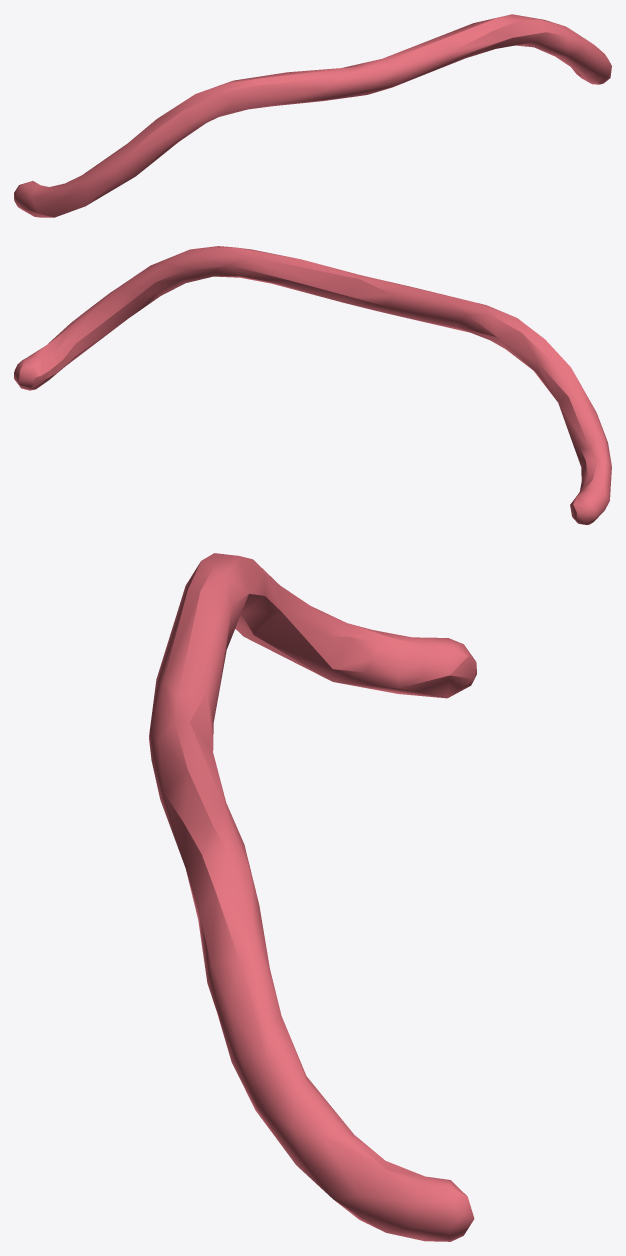
The model's file is fma50774_fj4707.glb.
3 views of the same model, one above another, from view 1: azimuth 30°, elevation 25°; view 2: azimuth 150°, elevation 25°; view 3: azimuth 270°, elevation 25° (orthographic). The views are drawn at different scales.
Parts seen in each view (by area): view 1: FMA50774_FJ4707; view 2: FMA50774_FJ4707; view 3: FMA50774_FJ4707.
Part boxes in pixels (box(x1,y1,x2,y2)): FMA50774_FJ4707: box(14, 14, 611, 217); FMA50774_FJ4707: box(14, 246, 611, 524); FMA50774_FJ4707: box(149, 553, 476, 1241).
Size of the model in its own units: 0.0204 by 0.00455 by 0.00499.
